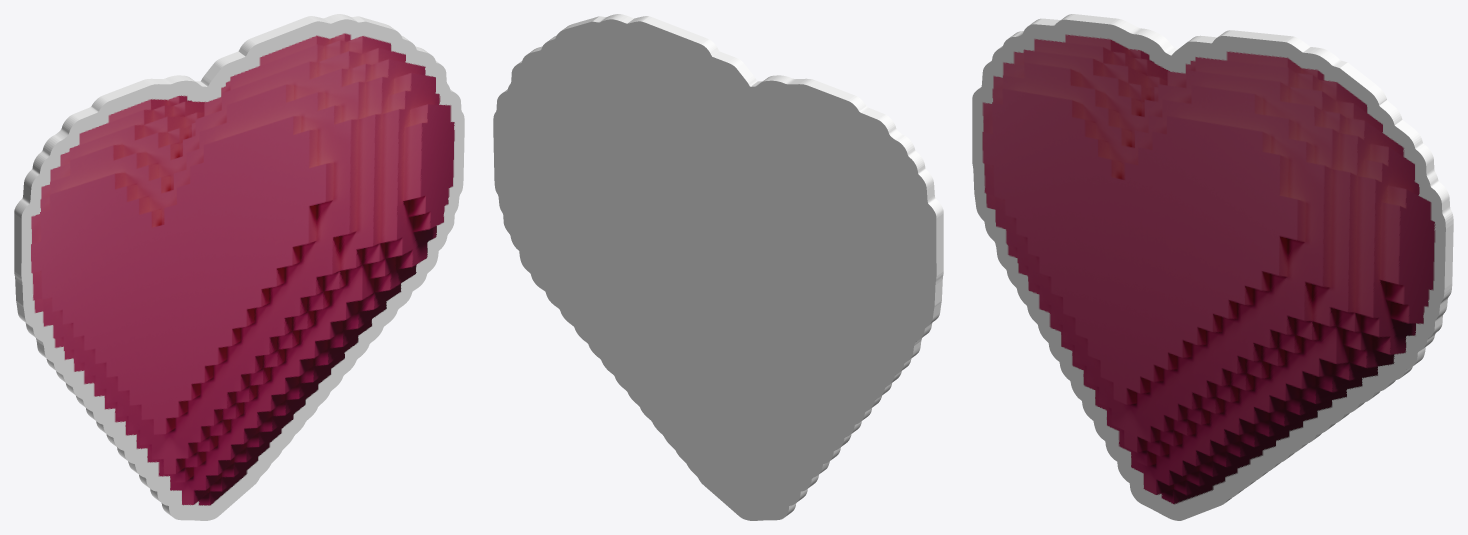
The model's file is HeartThreeD.gltf.
3 renders of one model, left to right at view 1: azimuth 30°, elevation 25°; view 2: azimuth 150°, elevation 25°; view 3: azimuth 330°, elevation 25°, orthographic. The views are drawn at different scales.
Parts seen in each view (by area): view 1: HeartThreeD; view 2: HeartThreeD; view 3: HeartThreeD.
Part boxes in pixels (left/top/right/bottom): HeartThreeD: left=14, top=14, right=464, bottom=520; HeartThreeD: left=493, top=14, right=943, bottom=520; HeartThreeD: left=972, top=14, right=1453, bottom=520.
Bounding box in the file's own units: 3.5 × 3.57 × 0.1.
2 materials, 1 textured.
